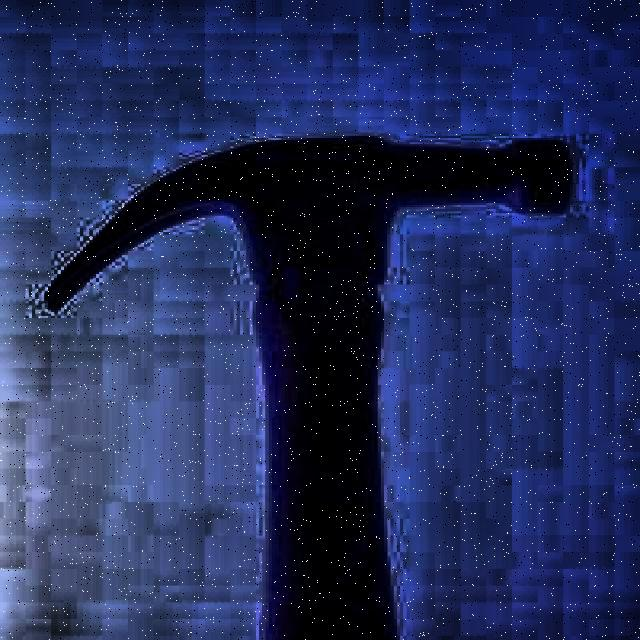hammer: (37, 130, 578, 638)
